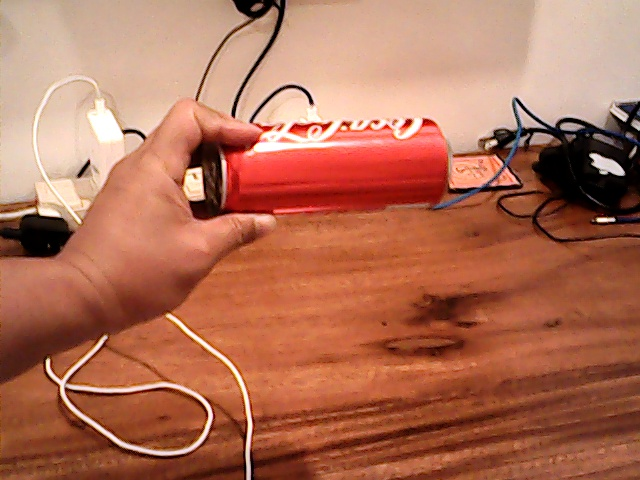Cola: (192, 114, 452, 223)
